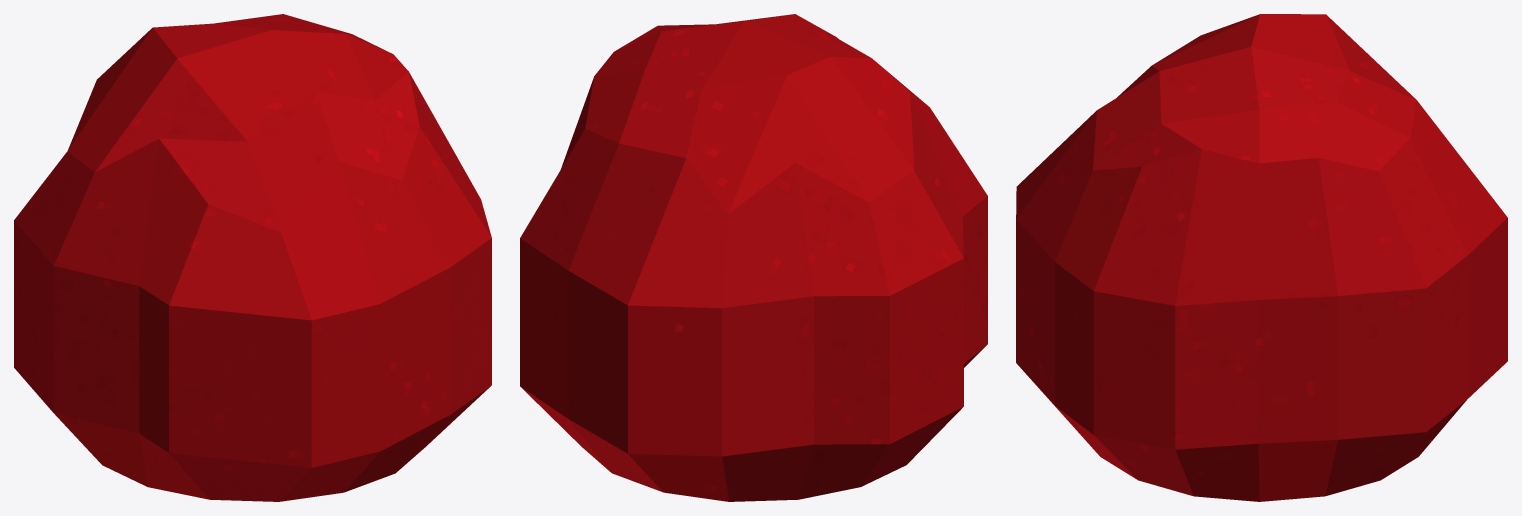
File: Crystal.fbx
3 views of the same model, side by side, from view 1: azimuth 30°, elevation 25°; view 2: azimuth 150°, elevation 25°; view 3: azimuth 270°, elevation 25° (orthographic). The views are drawn at different scales.
Parts seen in each view (by area): view 1: Crystal; view 2: Crystal; view 3: Crystal.
Part boxes in pixels (left/top/right/bottom): Crystal: left=14, top=14, right=491, bottom=501; Crystal: left=520, top=14, right=987, bottom=501; Crystal: left=1016, top=14, right=1507, bottom=501.
Size of the model in its own units: 202 by 197 by 227.
1 material, 1 textured.
